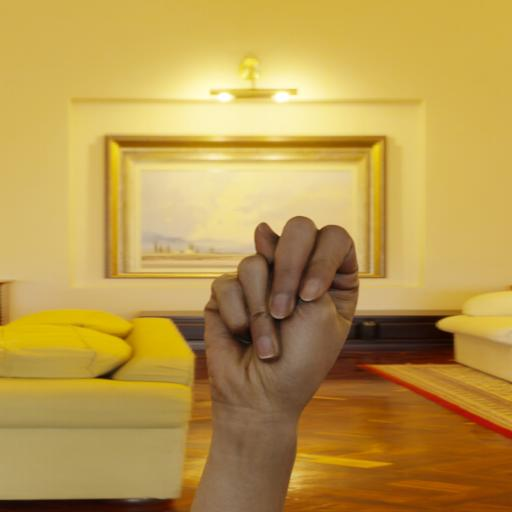N: (185, 209, 372, 422)
